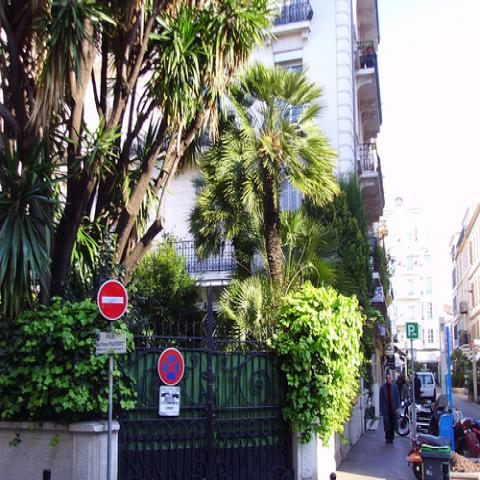car: (415, 372, 438, 404)
motorcycle: (398, 399, 432, 435), (453, 416, 479, 459)
